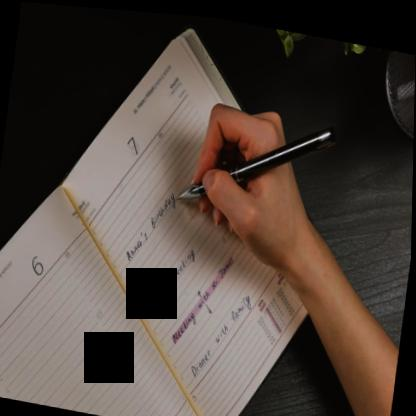pencil: (173, 118, 339, 198)
